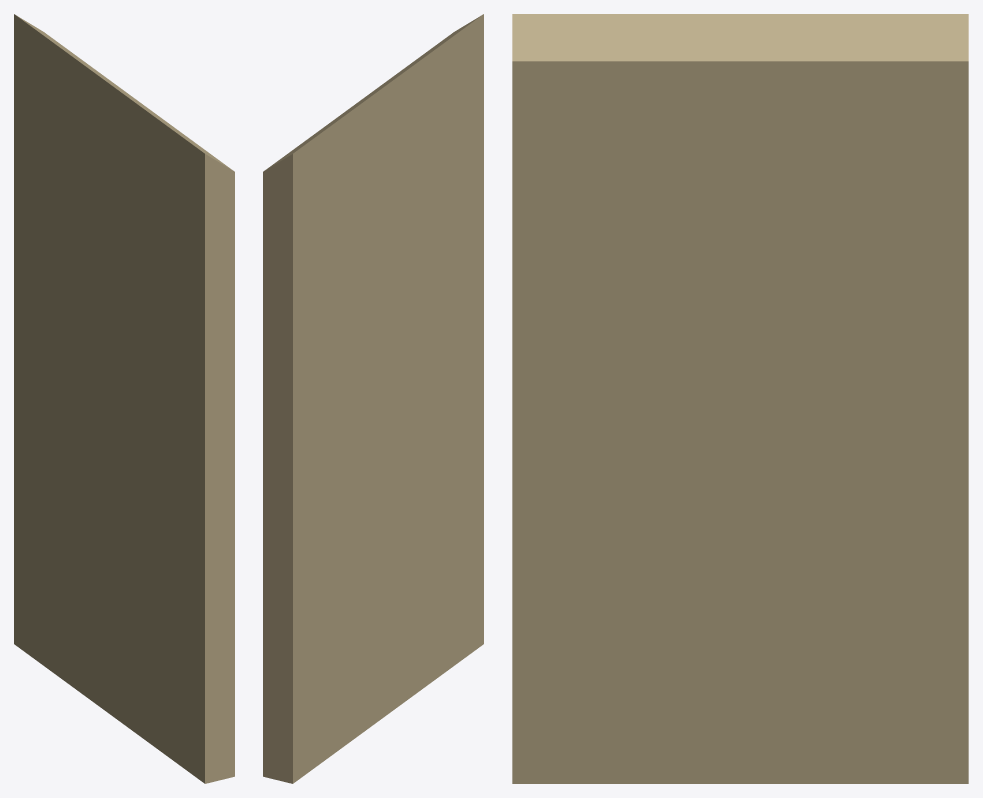
3 renders of one model, left to right at view 1: azimuth 30°, elevation 25°; view 2: azimuth 150°, elevation 25°; view 3: azimuth 270°, elevation 25°, orthographic. The views are drawn at different scales.
Parts seen in each view (by area): view 1: GF-W063; view 2: GF-W063; view 3: GF-W063.
Part boxes in pixels (x1,y1,x2,y2): GF-W063: (14, 14, 234, 783); GF-W063: (263, 14, 483, 783); GF-W063: (512, 14, 968, 783).
Bounding box in the file's own units: 0.09 × 1.82 × 1.
